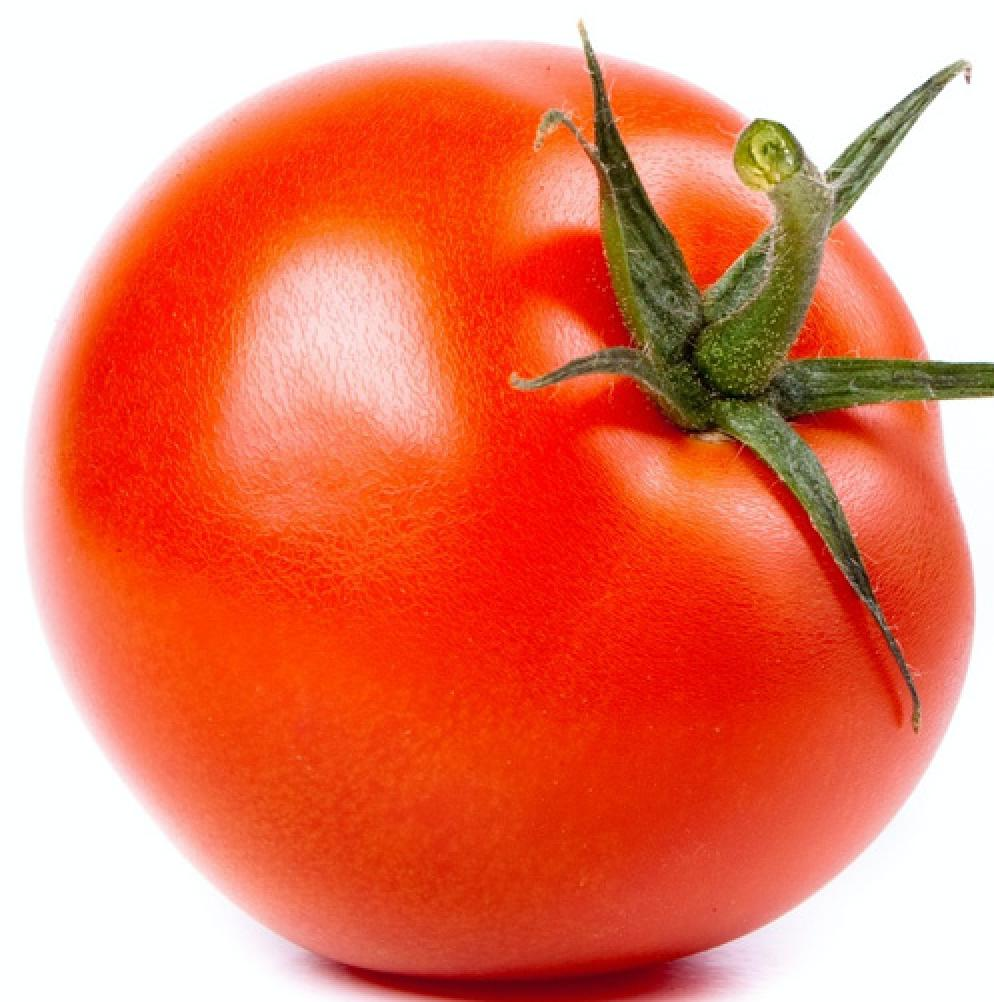tomato: (31, 27, 972, 987)
